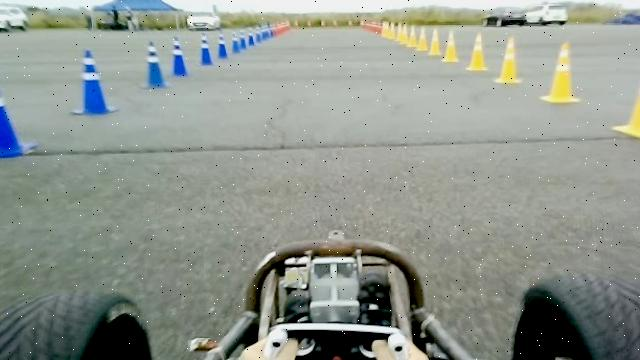blue cone: (0, 66, 37, 158), (70, 48, 118, 115), (140, 40, 170, 88), (171, 36, 187, 76), (198, 32, 213, 66), (216, 29, 228, 59), (230, 30, 241, 54)
yellow cone: (538, 41, 580, 103), (610, 53, 640, 139), (494, 36, 520, 84), (466, 31, 488, 72), (441, 29, 458, 63), (428, 27, 440, 56), (415, 25, 428, 51), (381, 21, 388, 38)
